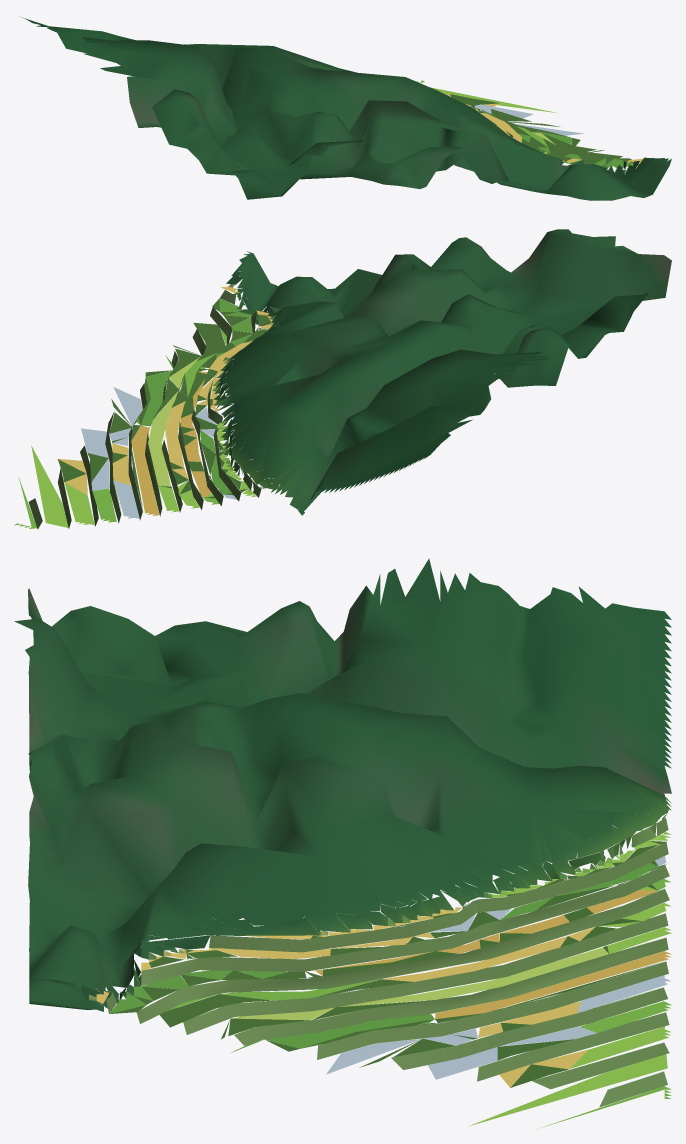
The model's file is payo_land_xm1_y5_lod2.glb.
3 views of the same model, one above another, from view 1: azimuth 30°, elevation 25°; view 2: azimuth 150°, elevation 25°; view 3: azimuth 270°, elevation 25° (orthographic). The views are drawn at different scales.
Visible parts, largest first — view 1: payo_land_xm1_y5; view 2: payo_land_xm1_y5; view 3: payo_land_xm1_y5.
Part boxes in pixels (x1,y1,x2,y2): payo_land_xm1_y5: (21,17,671,200); payo_land_xm1_y5: (14,229,671,529); payo_land_xm1_y5: (14,558,671,1127).
Bounding box in the file's own units: 301 × 116 × 264.
